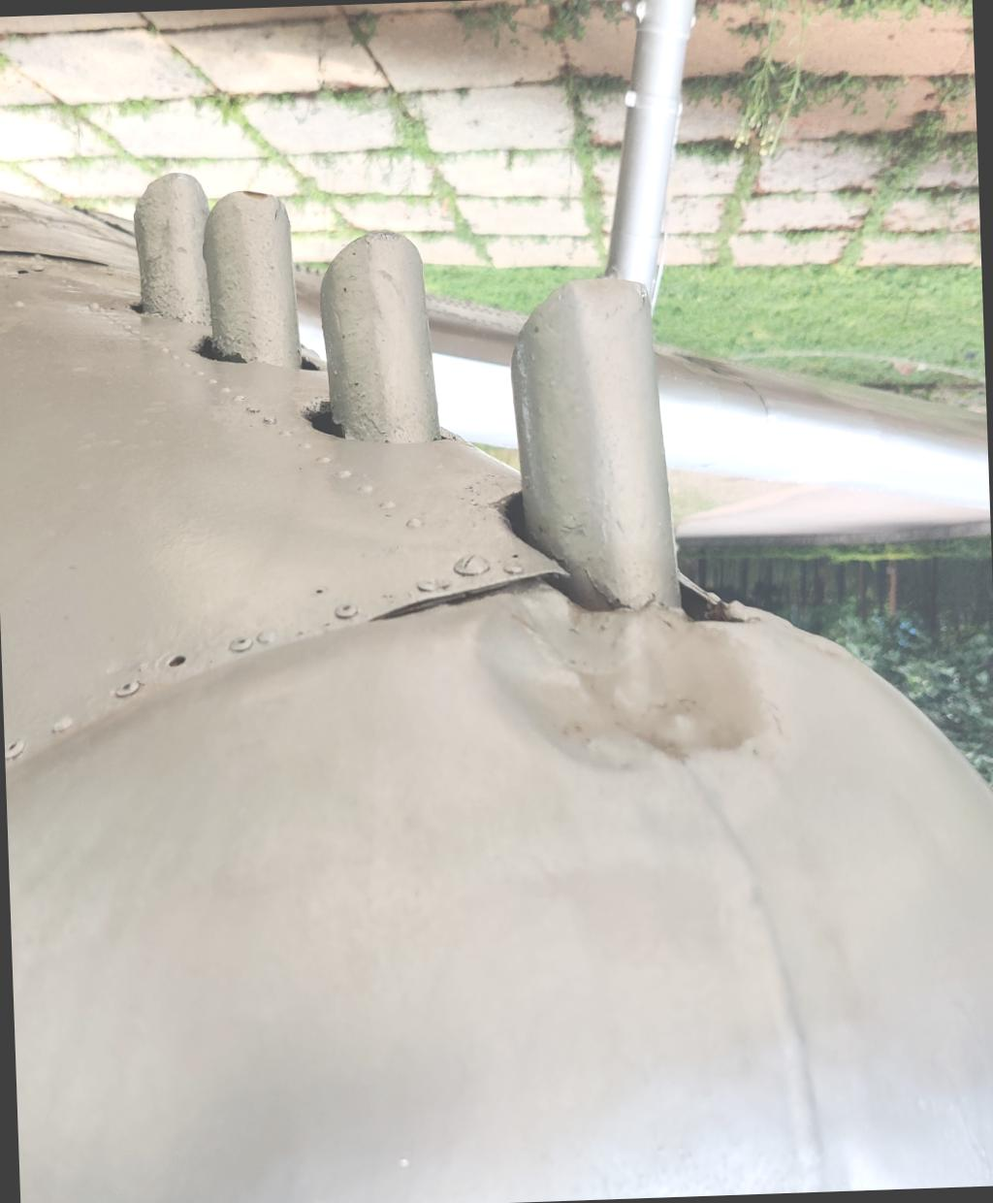dent: (469, 567, 773, 776)
